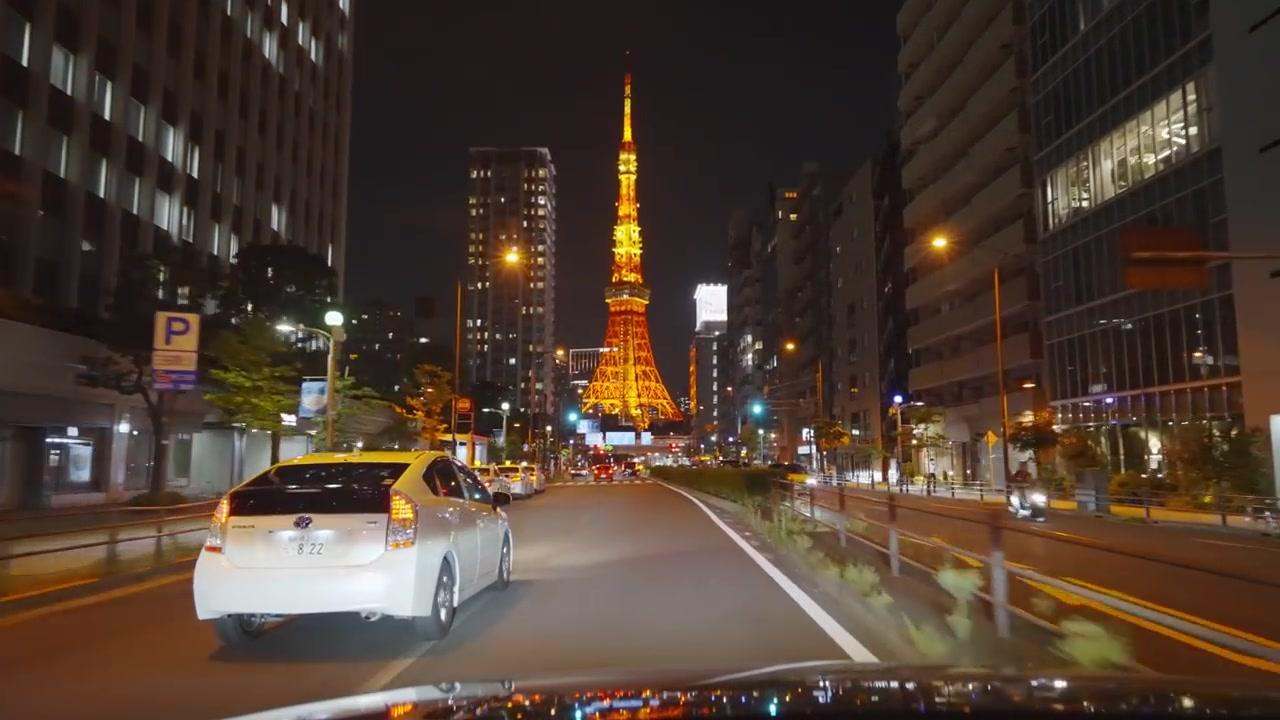car: (191, 447, 514, 645), (1006, 480, 1048, 521), (499, 464, 542, 498)
motorcycle: (1006, 478, 1047, 522)
traffic light: (751, 399, 767, 424), (565, 406, 579, 430)
